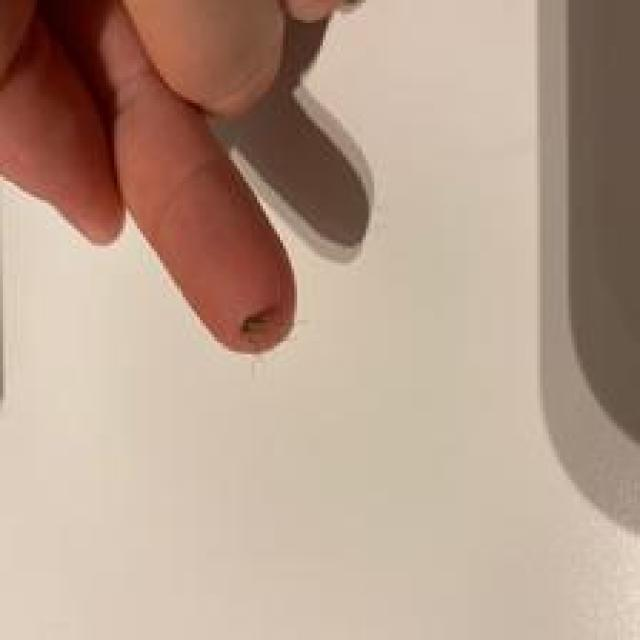Culex: (0, 0, 380, 406)
